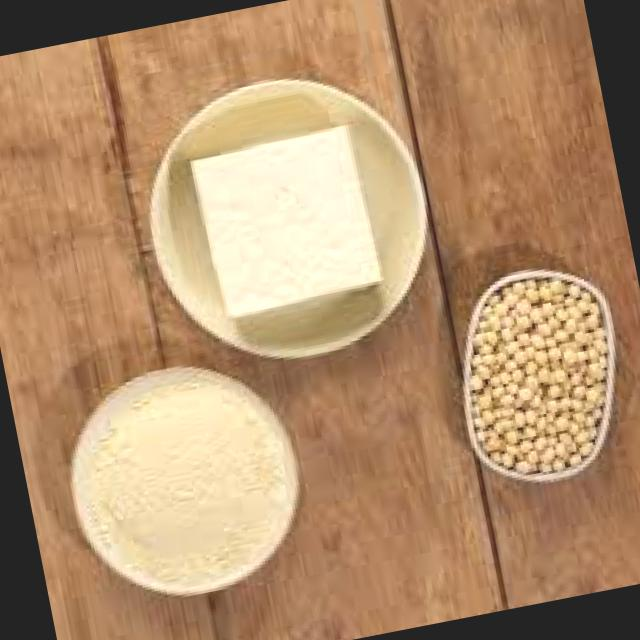tof: (176, 108, 408, 338)
